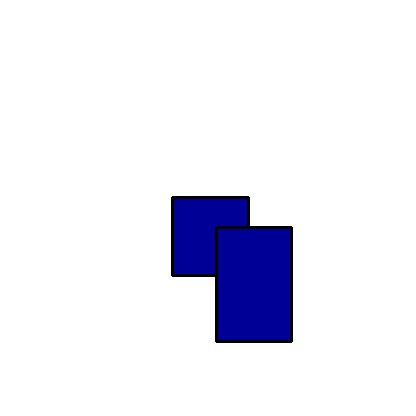rectangle: (216, 227, 291, 341), (172, 197, 248, 275)
